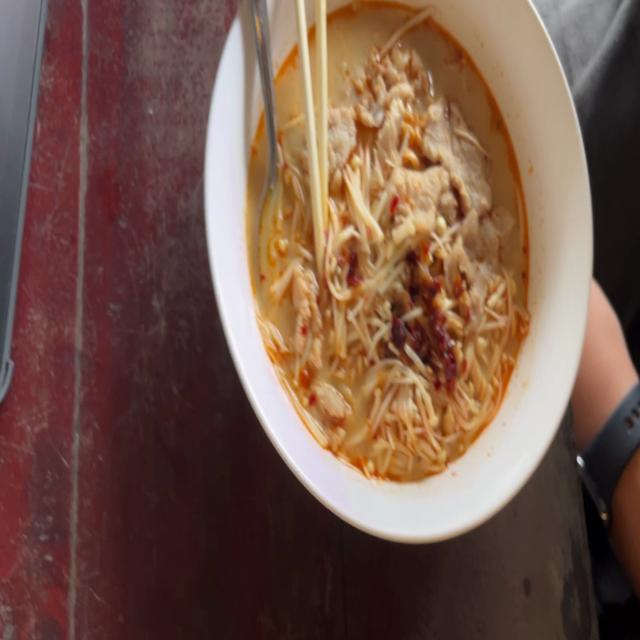noodle: (245, 0, 532, 480)
